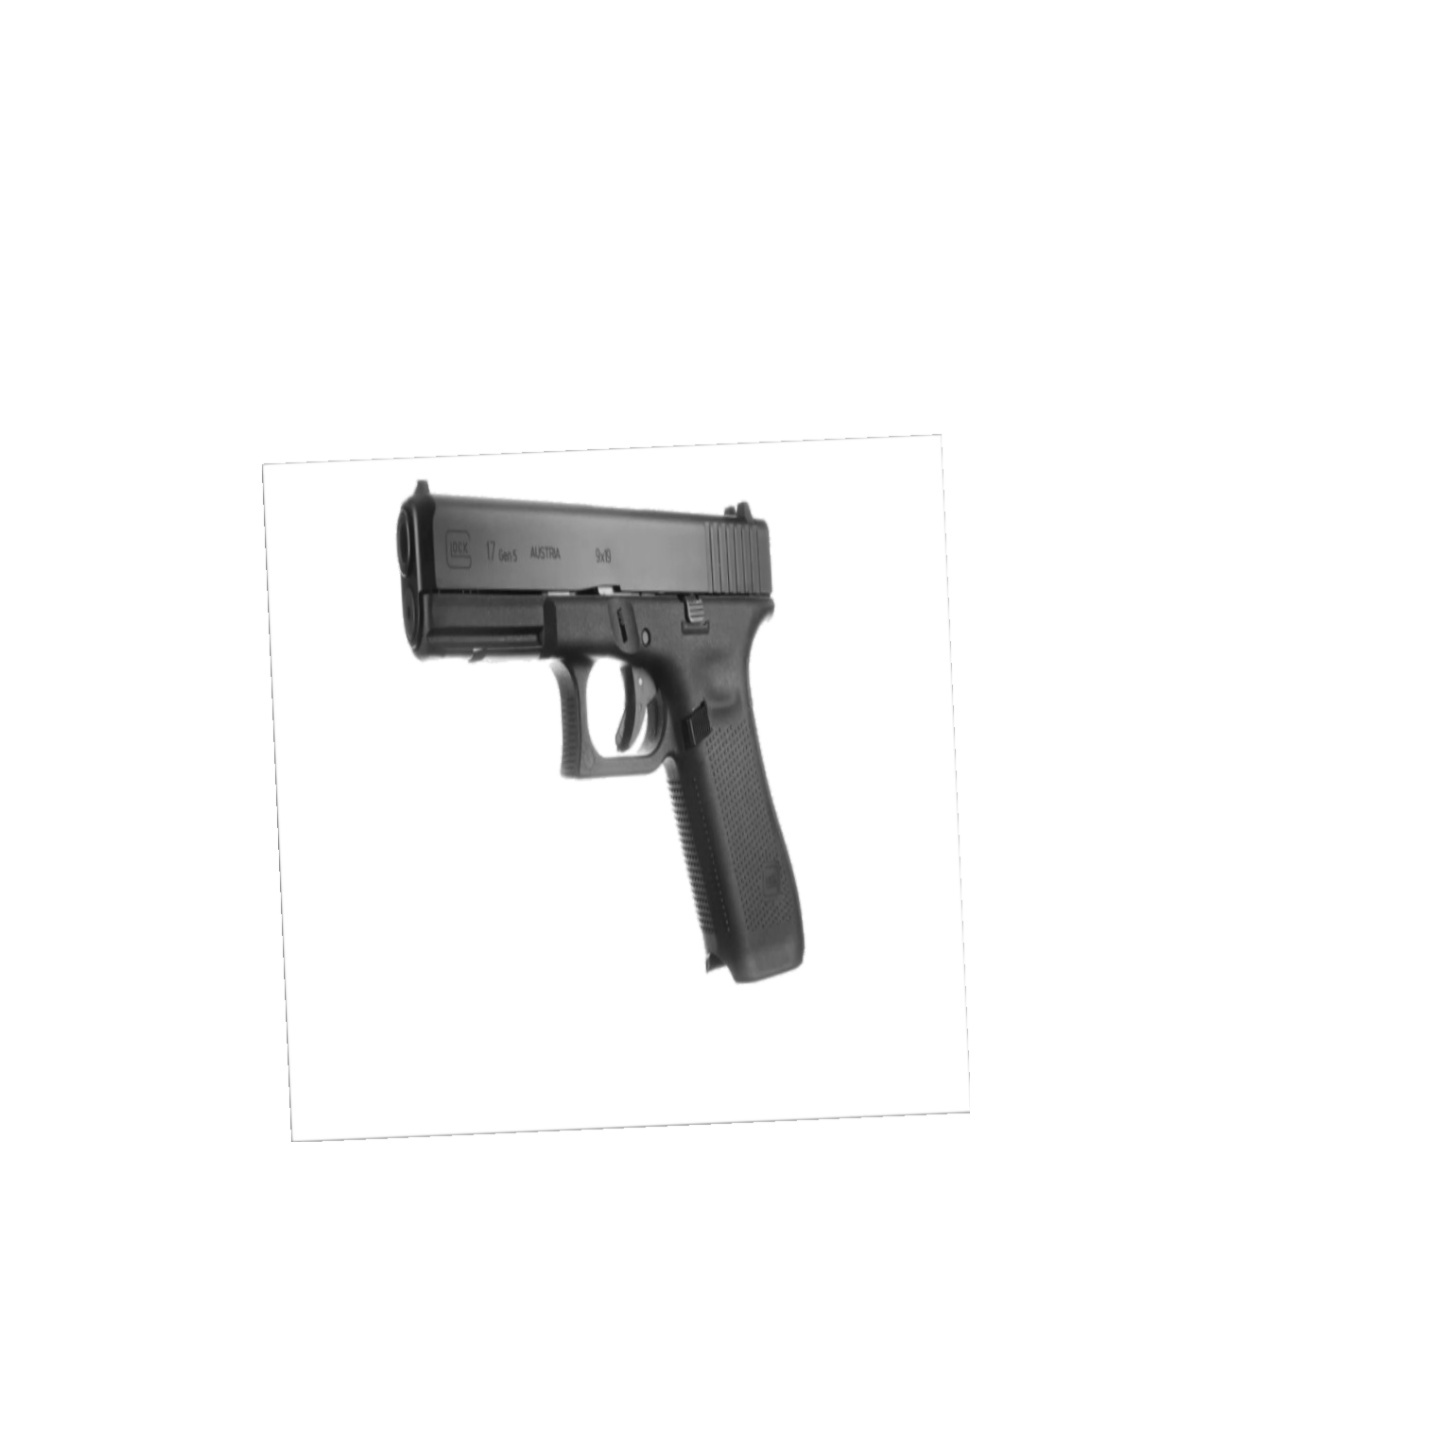gun: (391, 471, 814, 994)
